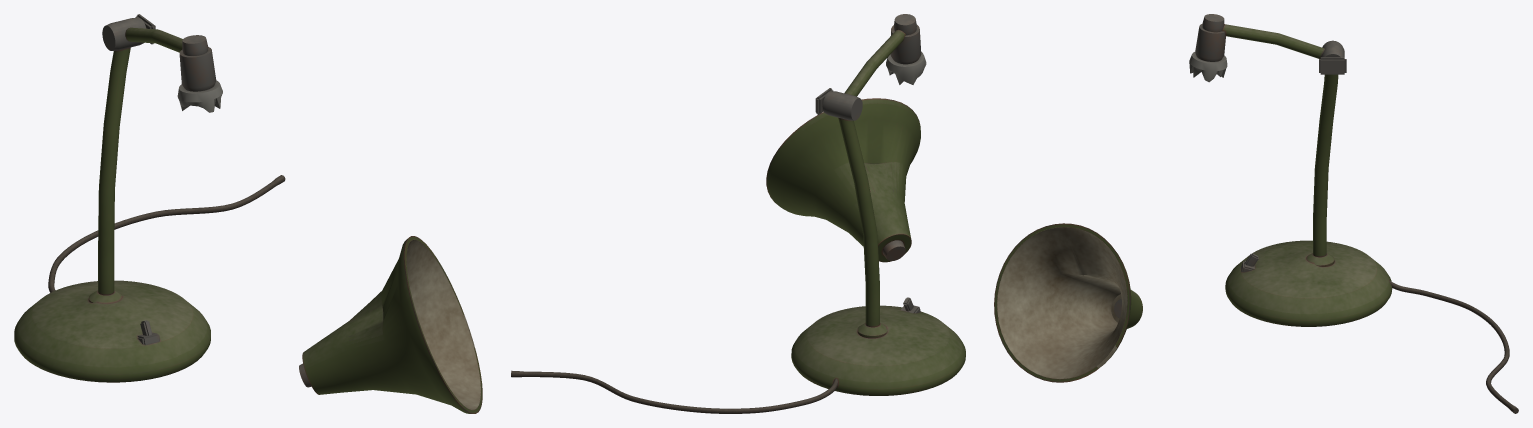
The model's file is DeskLamp.glb.
The picture shows the model from 3 angles, left to right: view 1: azimuth 30°, elevation 25°; view 2: azimuth 150°, elevation 25°; view 3: azimuth 270°, elevation 25°; orthographic projection. The views are drawn at different scales.
Visible parts, largest first — view 1: DeskLamp; view 2: DeskLamp; view 3: DeskLamp.
Part boxes in pixels (x1,y1,x2,y2): DeskLamp: (14,14,482,413); DeskLamp: (511,14,965,413); DeskLamp: (994,14,1518,413).
Size of the model in its own units: 0.402 by 0.3443 by 0.5697.
1 material, 1 textured.
